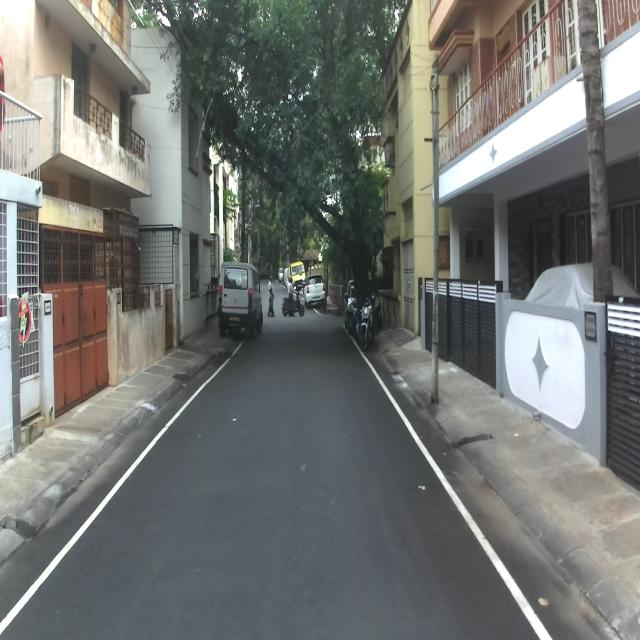car ahead at: (217, 258, 262, 332)
electric pole ahead at: (422, 50, 452, 412)
